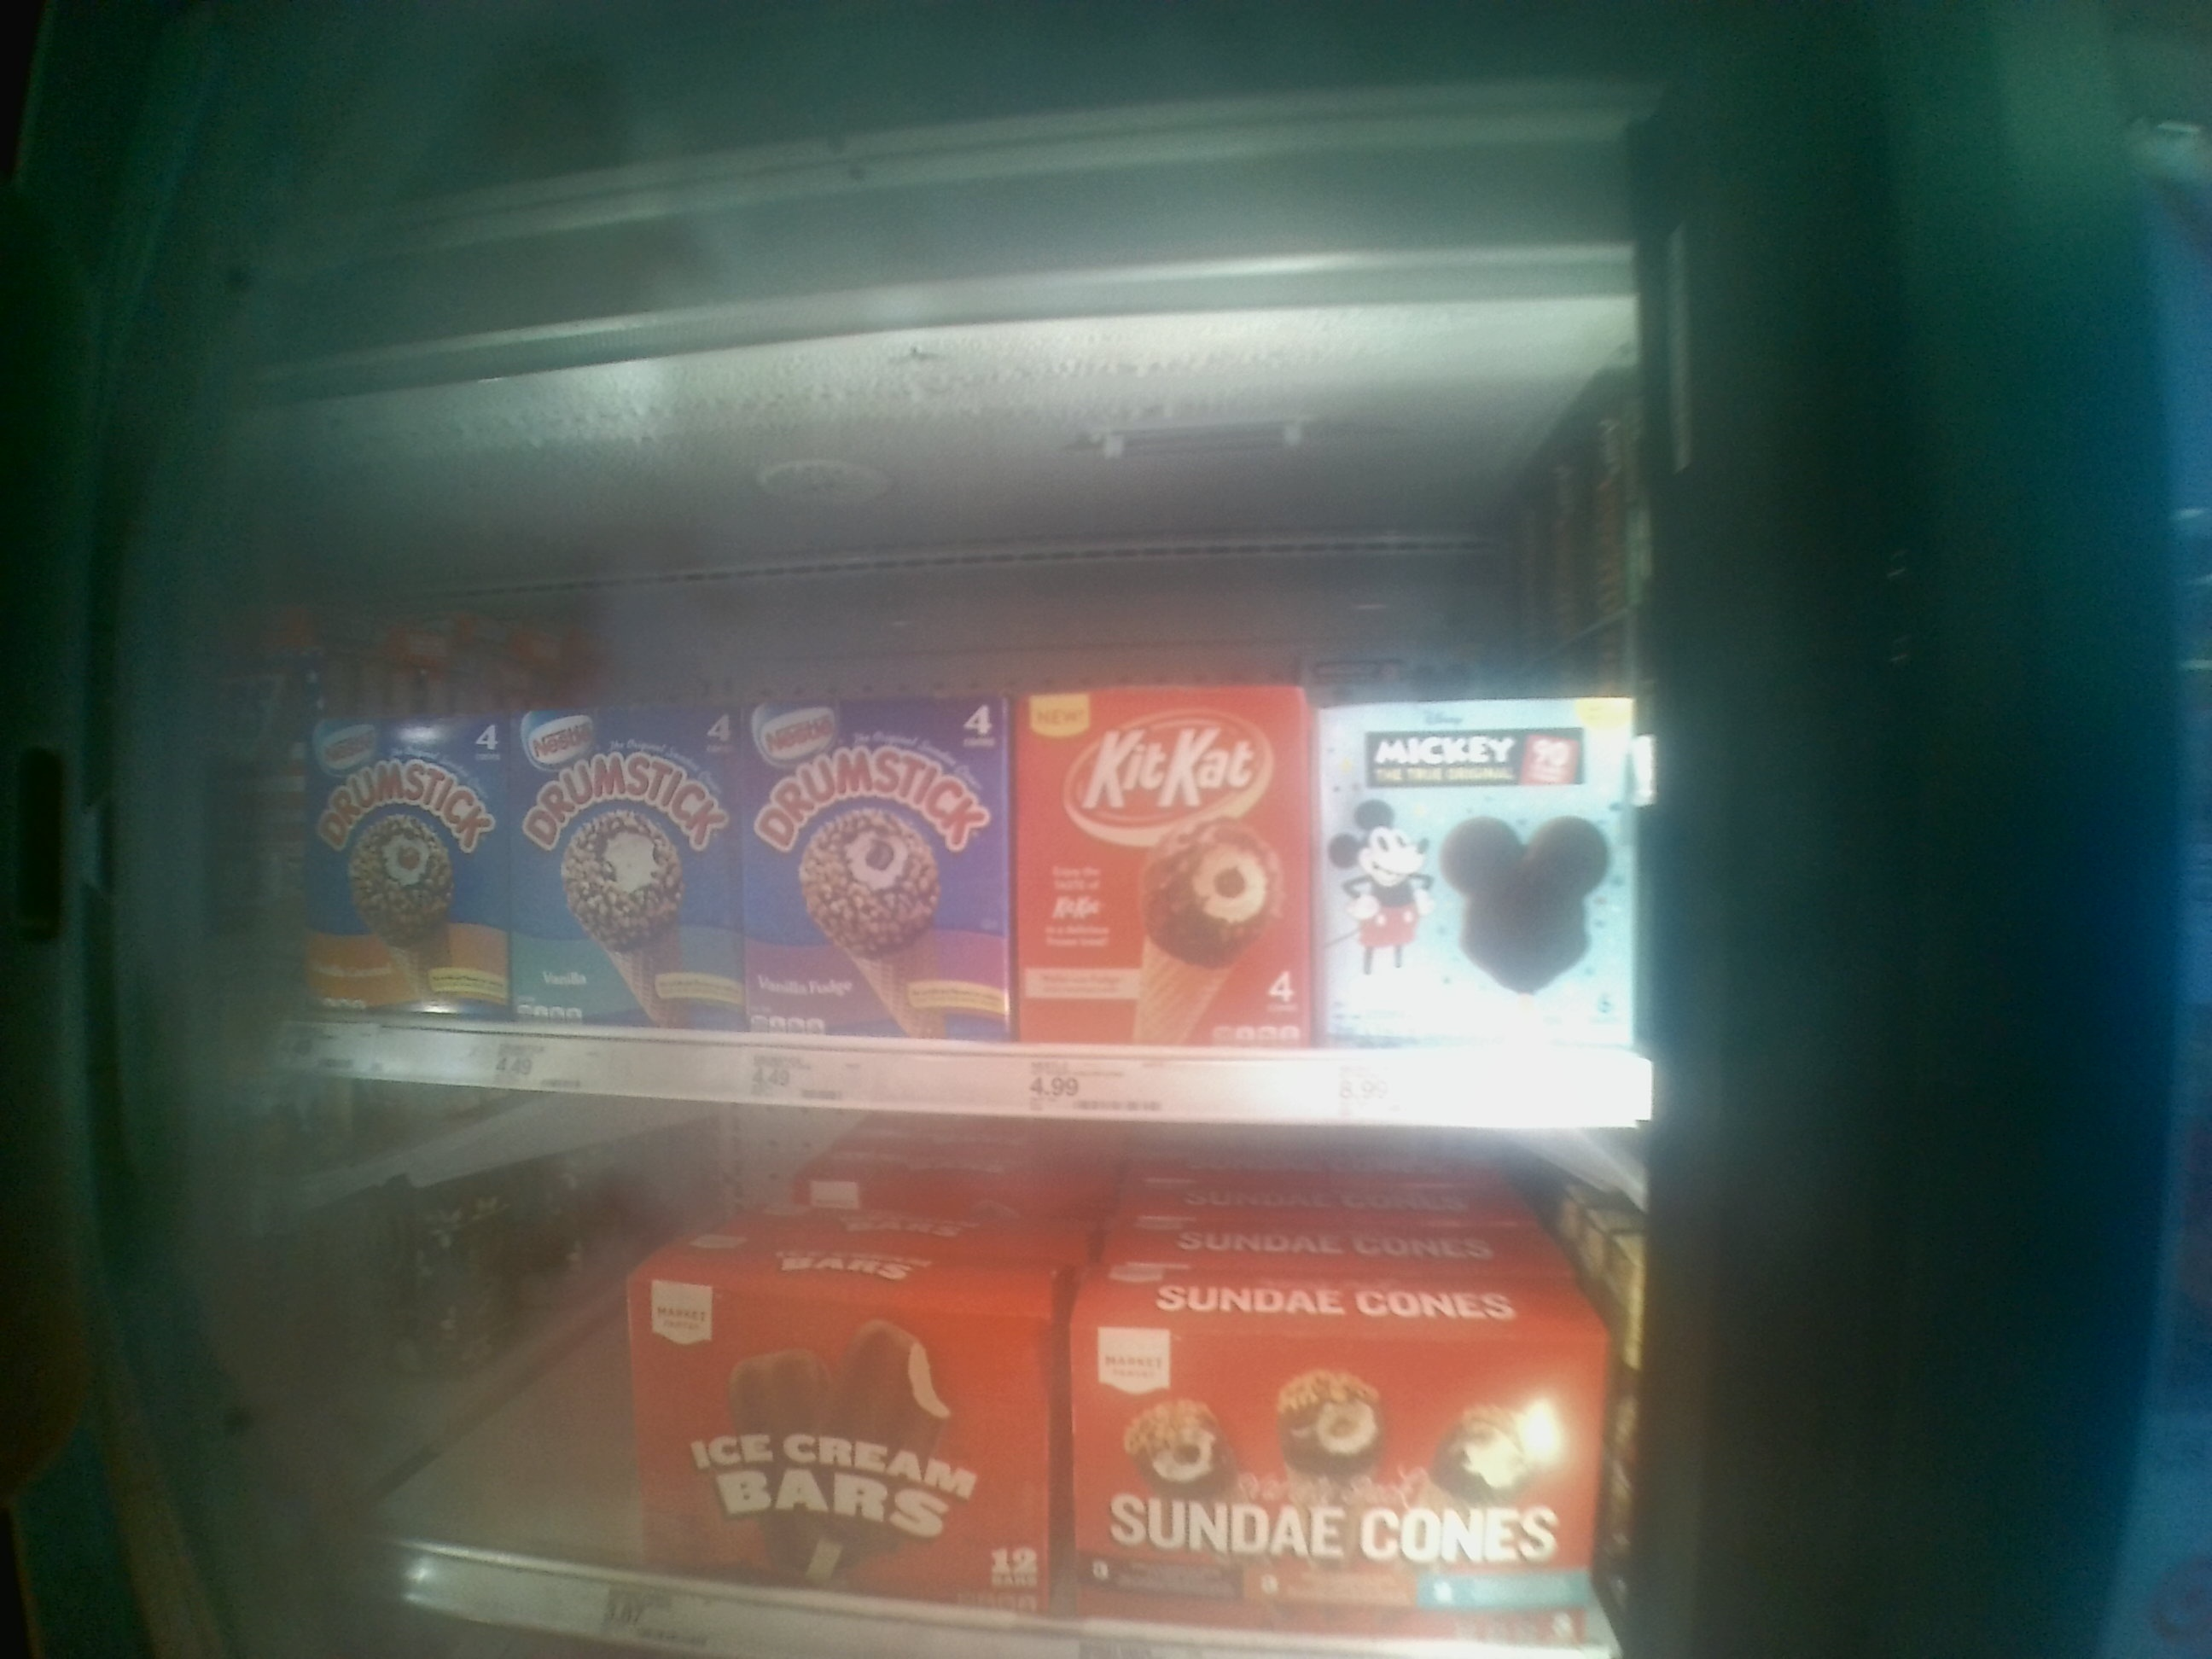shelf: (199, 242, 1634, 1145)
